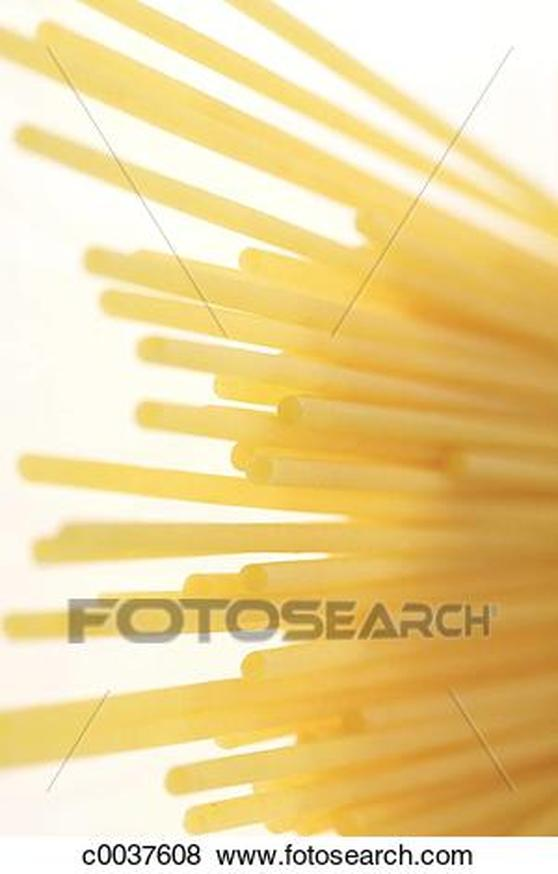spaghetti: (17, 16, 558, 848)
